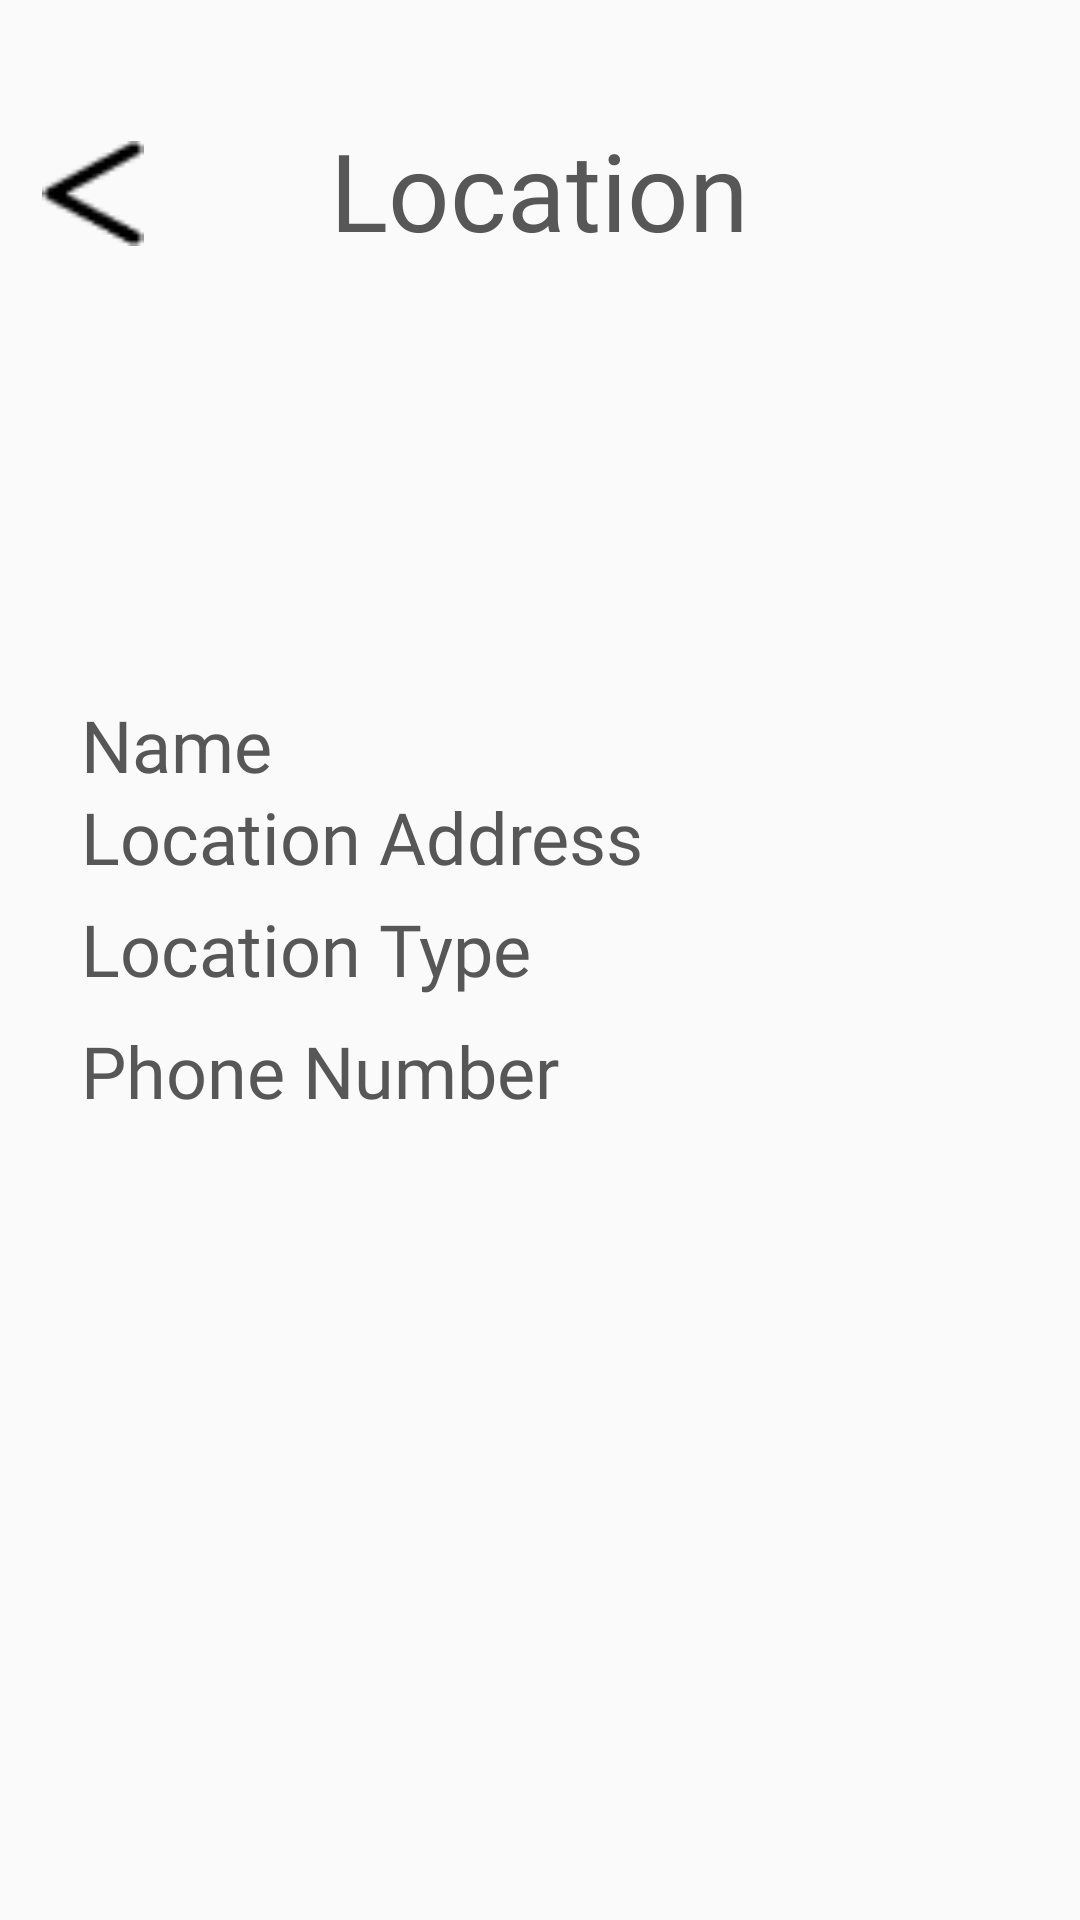

Screen size 1080w x 1920h. Icon name, then its box in pixels as (x1=x1, y1=y1, x2=x2, y2=y2):
Back: (x1=42, y1=141, x2=144, y2=246)
